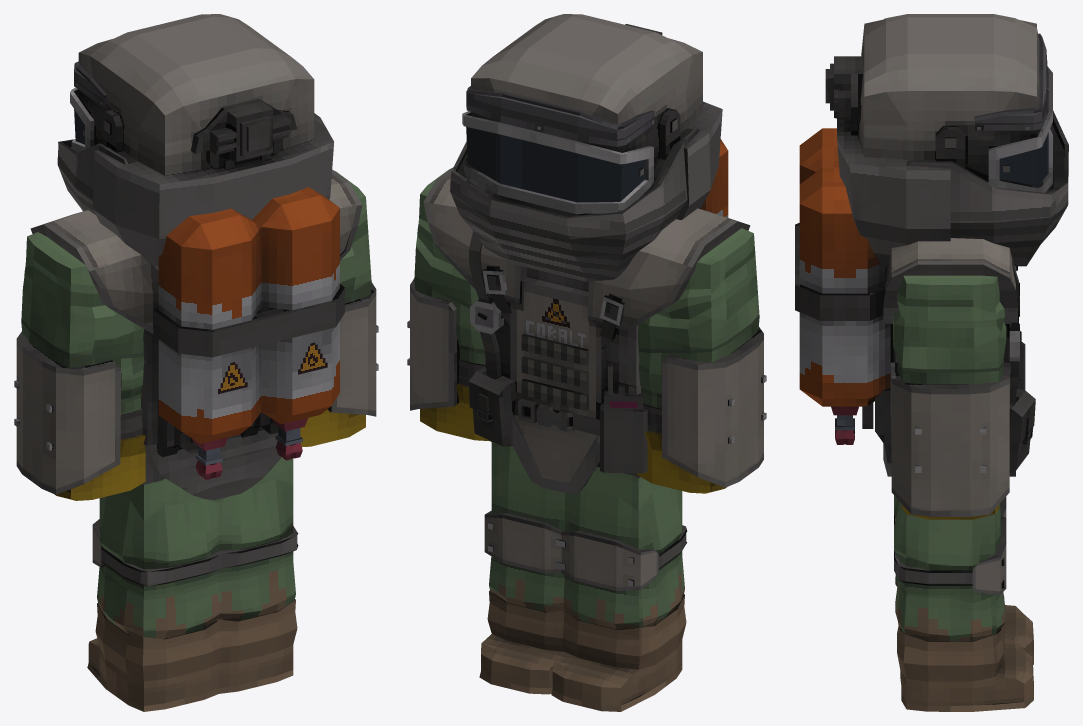
3 renders of one model, left to right at view 1: azimuth 30°, elevation 25°; view 2: azimuth 150°, elevation 25°; view 3: azimuth 270°, elevation 25°, orthographic.
Visible parts, largest first — view 1: body, head, left_arm, left_leg, right_leg, right_arm; view 2: head, body, left_leg, left_arm, right_leg, right_arm; view 3: head, body, right_arm, right_leg, left_leg.
Part boxes in pixels (x1=…): body: x1=30, y1=170, x2=362, y2=500; head: x1=57, y1=14, x2=333, y2=270; left_arm: x1=14, y1=232, x2=145, y2=500; left_leg: x1=87, y1=478, x2=224, y2=711; right_leg: x1=215, y1=457, x2=298, y2=693; right_arm: x1=300, y1=170, x2=378, y2=447; head: x1=450, y1=14, x2=722, y2=281; body: x1=423, y1=139, x2=750, y2=493; left_leg: x1=551, y1=466, x2=687, y2=711; left_arm: x1=637, y1=228, x2=766, y2=493; right_leg: x1=479, y1=442, x2=565, y2=694; right_arm: x1=407, y1=168, x2=490, y2=441; head: x1=825, y1=14, x2=1068, y2=266; body: x1=795, y1=128, x2=1035, y2=476; right_arm: x1=890, y1=275, x2=1010, y2=519; right_leg: x1=894, y1=501, x2=1033, y2=711; left_leg: x1=894, y1=495, x2=1033, y2=664.
Bounding box in the file's own units: 1.13 × 2.09 × 0.8132.
Materials: 1 (1 with a texture image).
